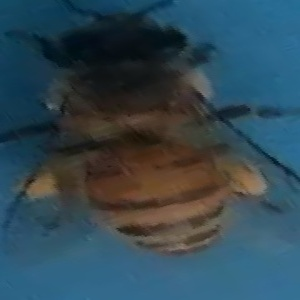bee: (15, 3, 295, 262)
